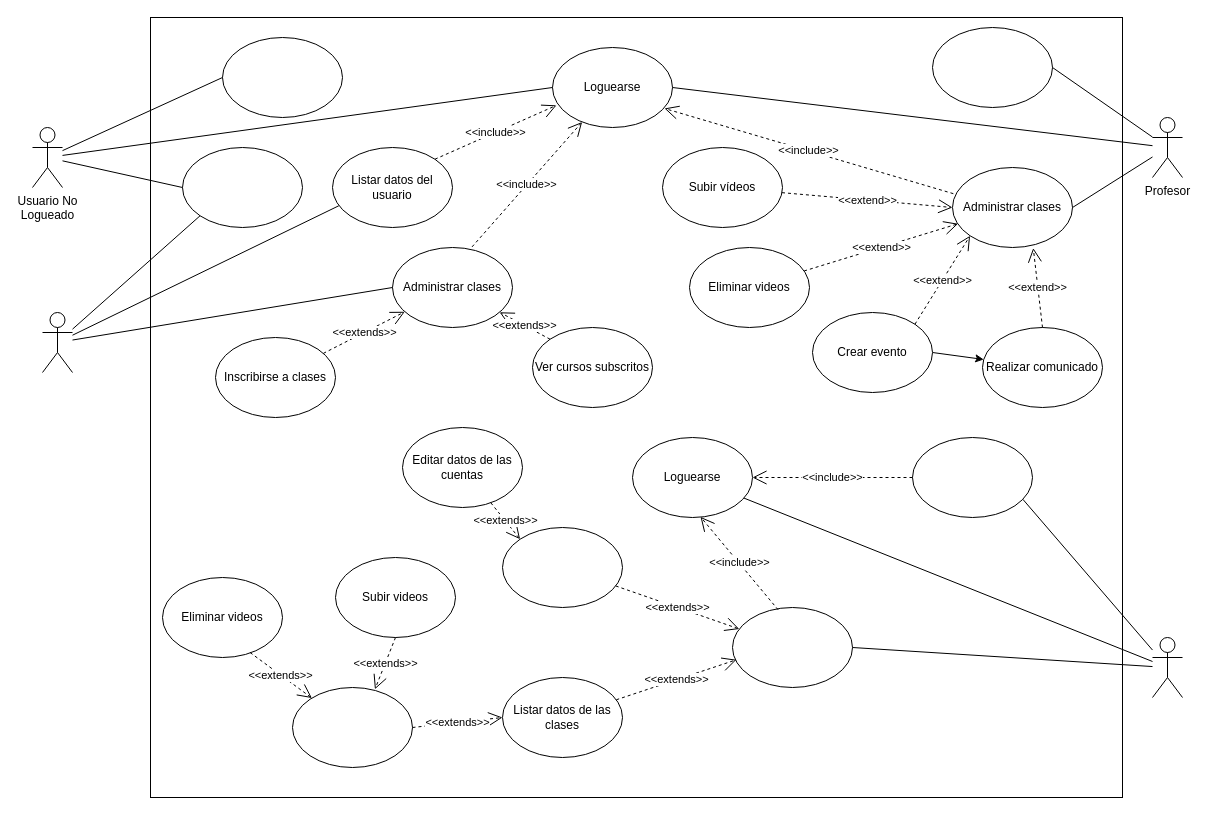
Some shapes in this 1221 by 815 pixel diagram are drawn without their labels. The shapes that lost their labels are listed below. From the top down, each one's centre as x and y in pixels, then its label:
At point 282,77: "Inscribirse".
At point 992,67: "Listar datos del profesor".
At point 242,187: "Buscar en la página principal".
At point 57,342: "Usuario Logueado".
At point 972,477: "Actualizar diseño web".
At point 562,567: "Listar datos de las cuentas".
At point 792,647: "Administrar cuentas".
At point 1167,667: "Administrador".
At point 352,727: "Editar datos de las clases".
